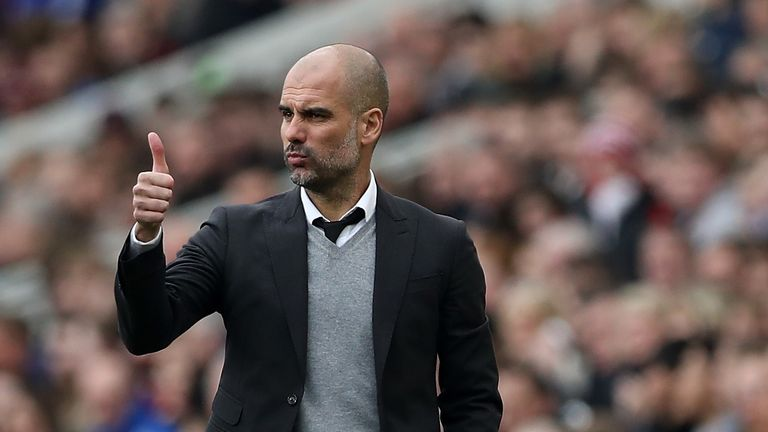thumbsUp: (125, 126, 175, 231)
